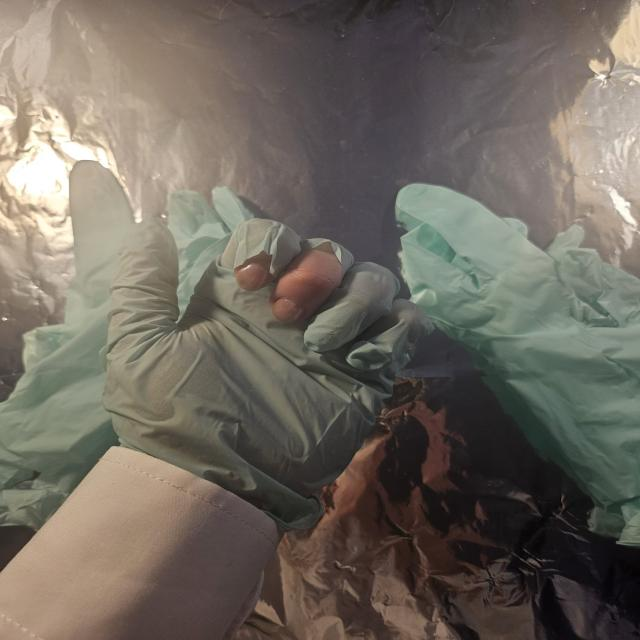gloves_damaged: (104, 219, 425, 538)
